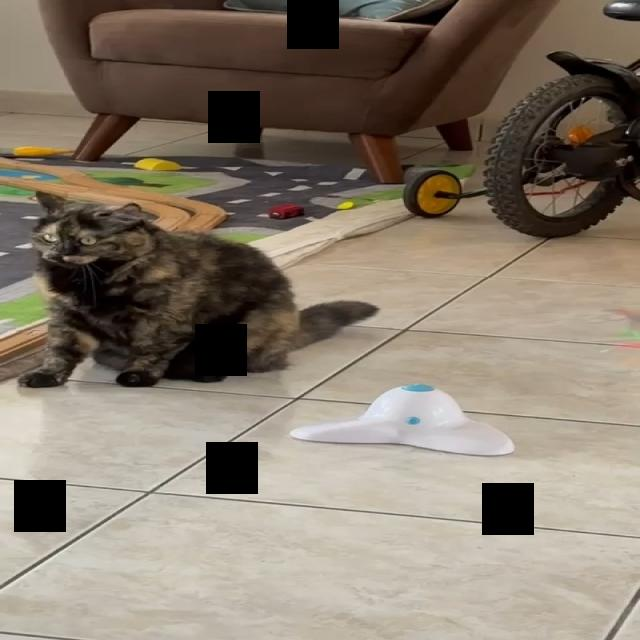authorized: (17, 189, 380, 388)
